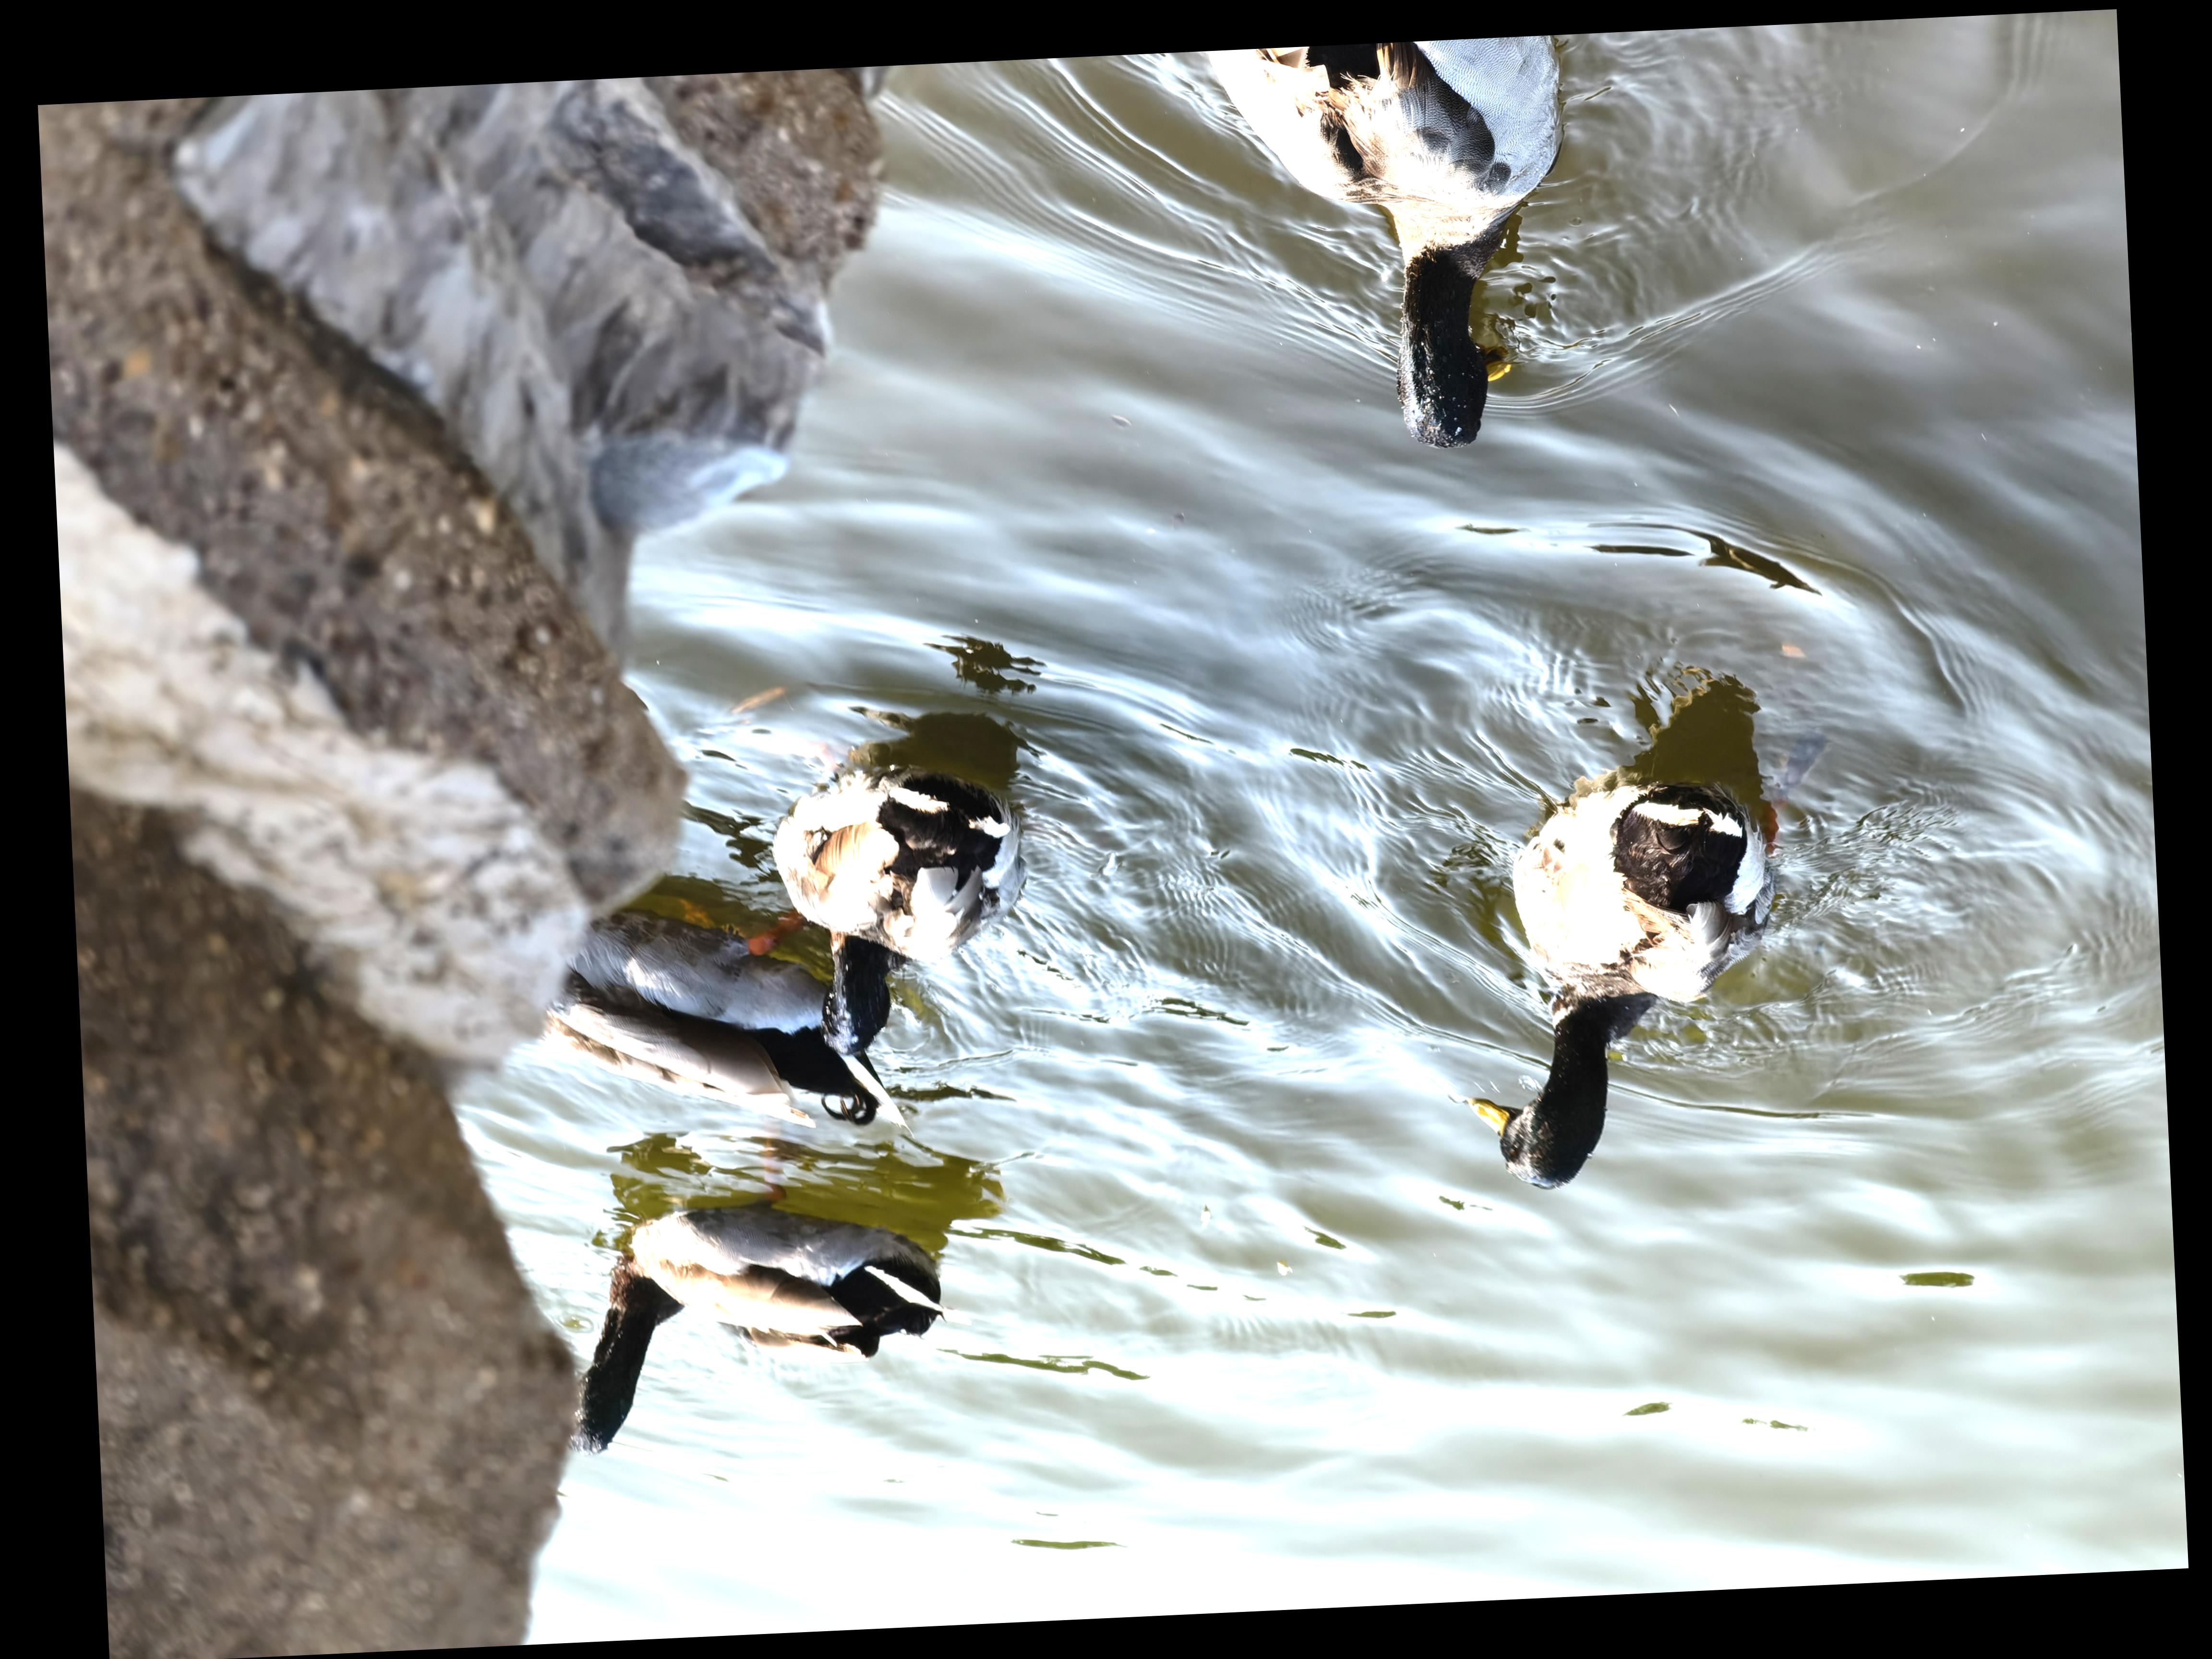duck: (1439, 727, 1825, 1204), (1195, 40, 1601, 477), (545, 1202, 995, 1457), (528, 918, 921, 1164), (786, 760, 1043, 1066)
